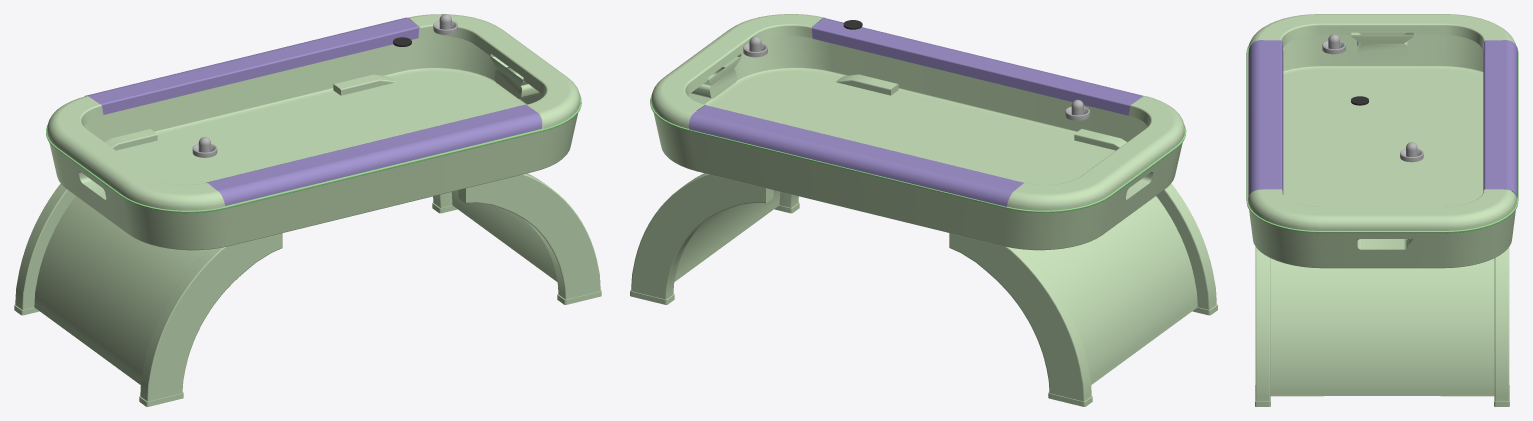
The model's file is Sjekk.fbx.
3 renders of one model, left to right at view 1: azimuth 30°, elevation 25°; view 2: azimuth 150°, elevation 25°; view 3: azimuth 270°, elevation 25°, orthographic. The views are drawn at different scales.
Visible parts, largest first — view 1: fot_2; view 2: fot_2; view 3: fot_2, Mallet2_8, Mallet_5.
Boxes of the visible parts, bbox=[...] form: fot_2: bbox=[14, 14, 601, 406]; fot_2: bbox=[630, 14, 1217, 406]; fot_2: bbox=[1246, 14, 1518, 406]; Mallet2_8: bbox=[1322, 34, 1345, 54]; Mallet_5: bbox=[1400, 142, 1423, 162].
Size of the model in its own units: 196 by 105 by 102.
